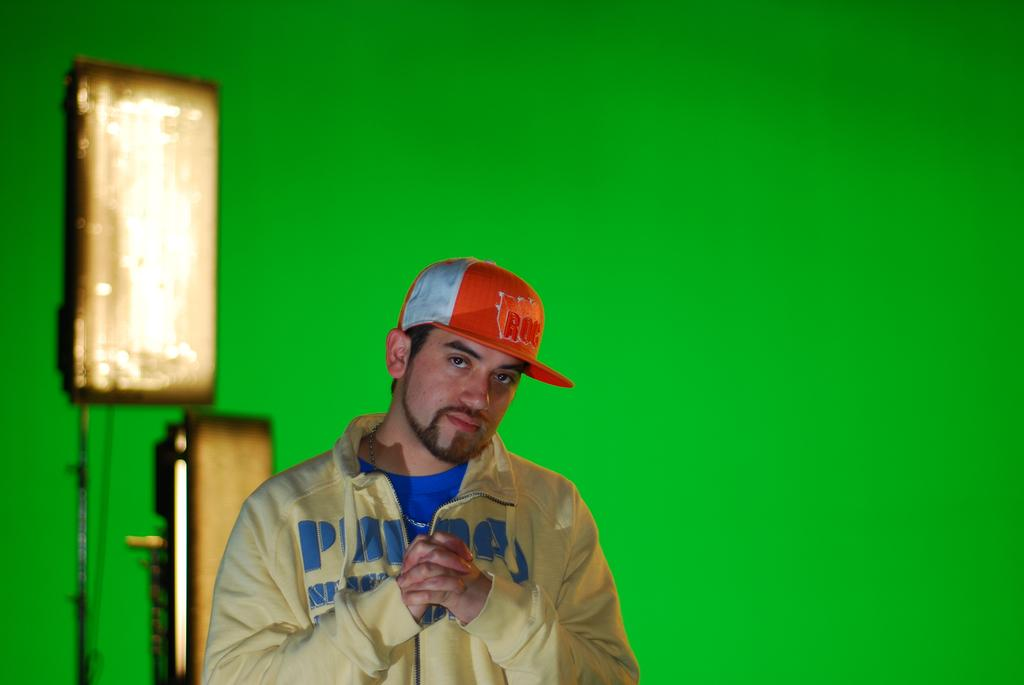Hat: (396, 256, 576, 388)
